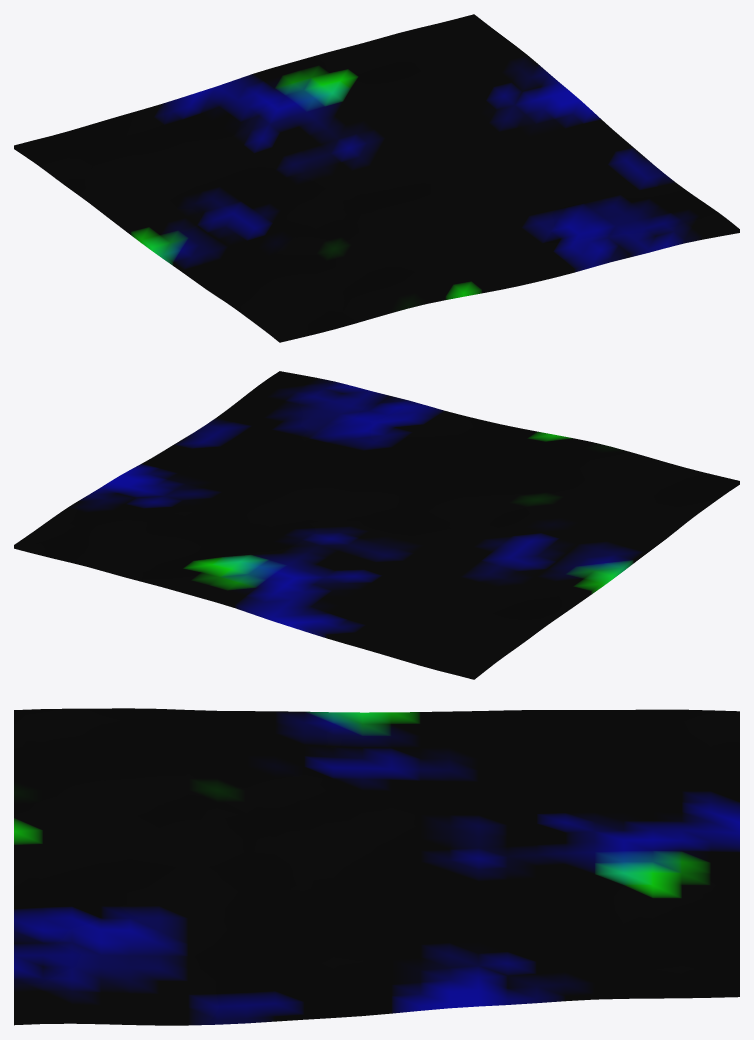
Rendered from coast_14_6.glb.
3 renders of one model, top to bottom at view 1: azimuth 30°, elevation 25°; view 2: azimuth 150°, elevation 25°; view 3: azimuth 270°, elevation 25°, orthographic. The views are drawn at different scales.
Parts seen in each view (by area): view 1: terrain; view 2: terrain; view 3: terrain.
Boxes of the visible parts, x1,y1,x2,y2 form: terrain: (14,14,739,342); terrain: (14,371,739,679); terrain: (14,708,739,1025).
Bounding box in the file's own units: 200 × 10.15 × 200.
